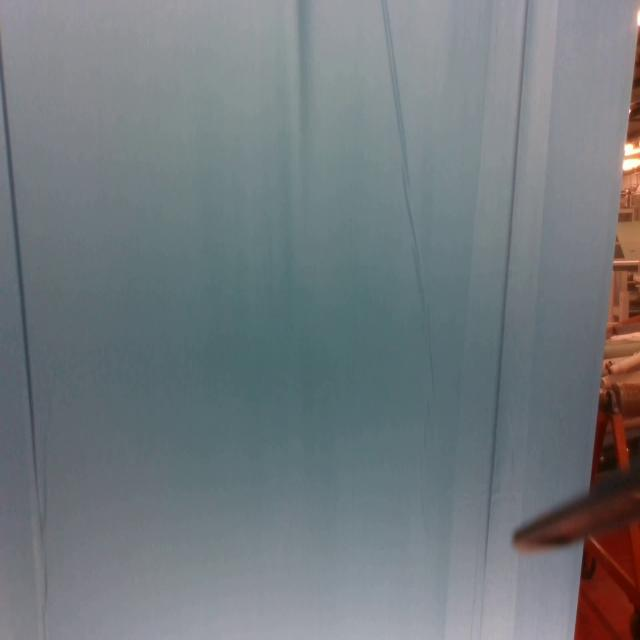crease: (444, 0, 558, 636), (0, 34, 47, 640), (381, 1, 436, 391)
